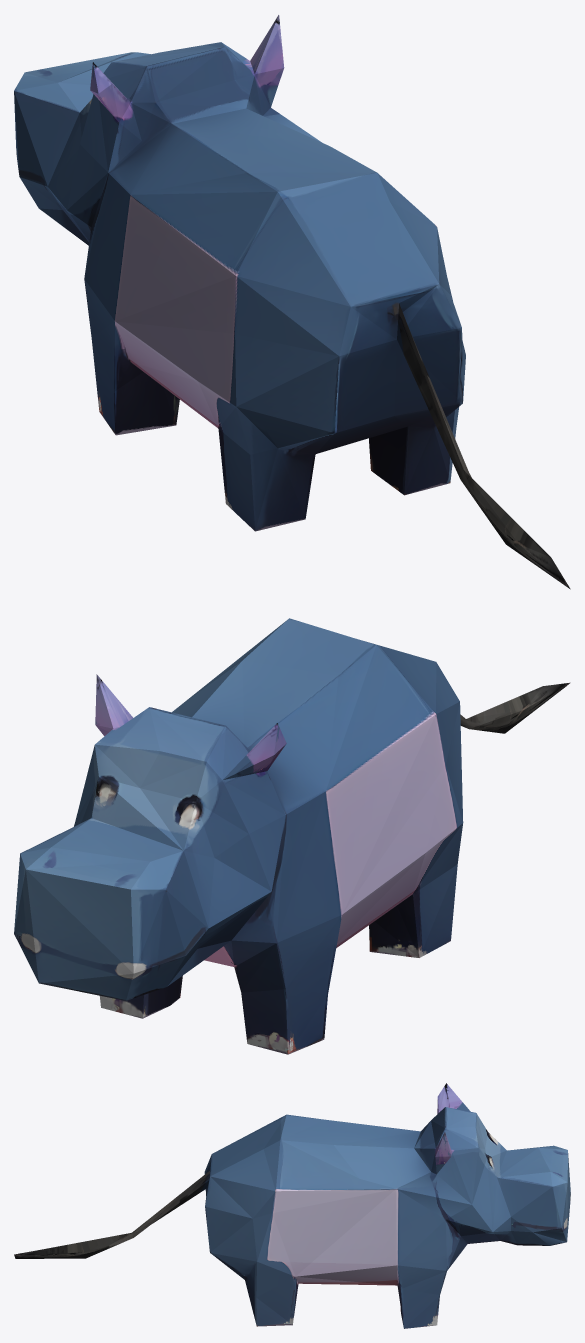
3 views of the same model, one above another, from view 1: azimuth 30°, elevation 25°; view 2: azimuth 150°, elevation 25°; view 3: azimuth 270°, elevation 25° (orthographic). The views are drawn at different scales.
Visible parts, largest first — view 1: Figure; view 2: Figure; view 3: Figure.
Boxes of the visible parts, left/top/right/bottom form: Figure: left=14, top=15, right=570, bottom=589; Figure: left=14, top=618, right=570, bottom=1054; Figure: left=14, top=1083, right=570, bottom=1328.
Size of the model in its own units: 0.1999 by 0.2923 by 0.7569.
Materials: 1 (1 with a texture image).
